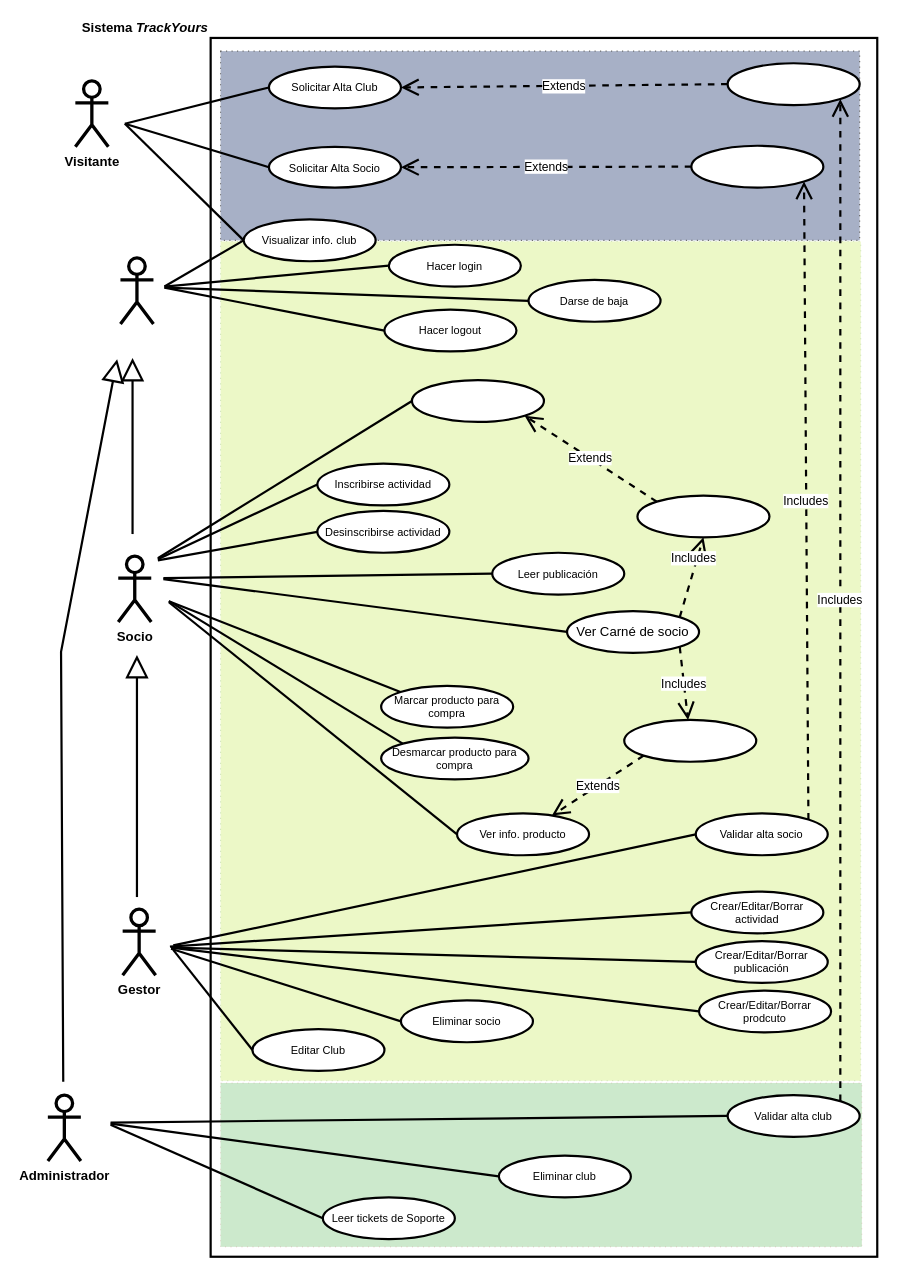
Some shapes in this 897 by 1276 pixel diagram are drawn without their labels. Each missing label, with the centre of its shape:
Aceptar ser gestor de club: (793,84)
Aceptar ser socio de club: (757,166)
Revisar estado compras: (690,740)
Revisar inscripciones: (703,516)
Usuario: (136,290)
Ver info. actividad: (477,400)
